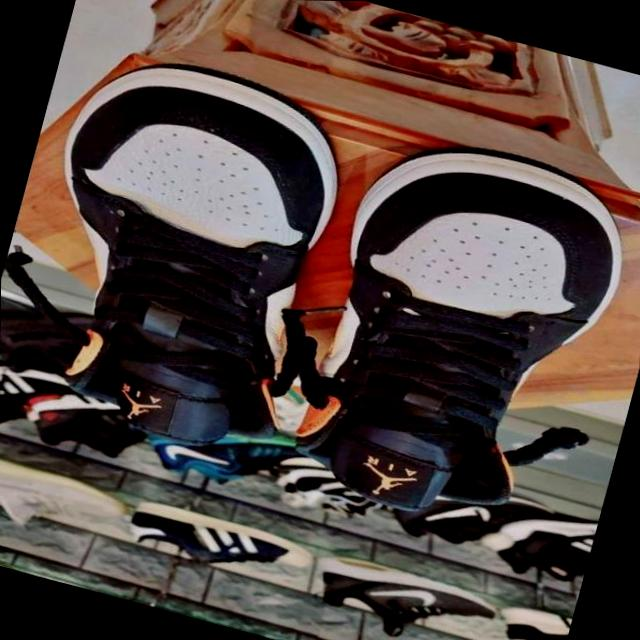nike_fake_jordan: (0, 33, 375, 475), (269, 113, 640, 547)
